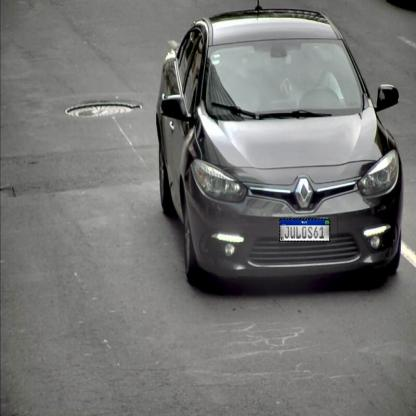PlacaM: (279, 218, 330, 242)
